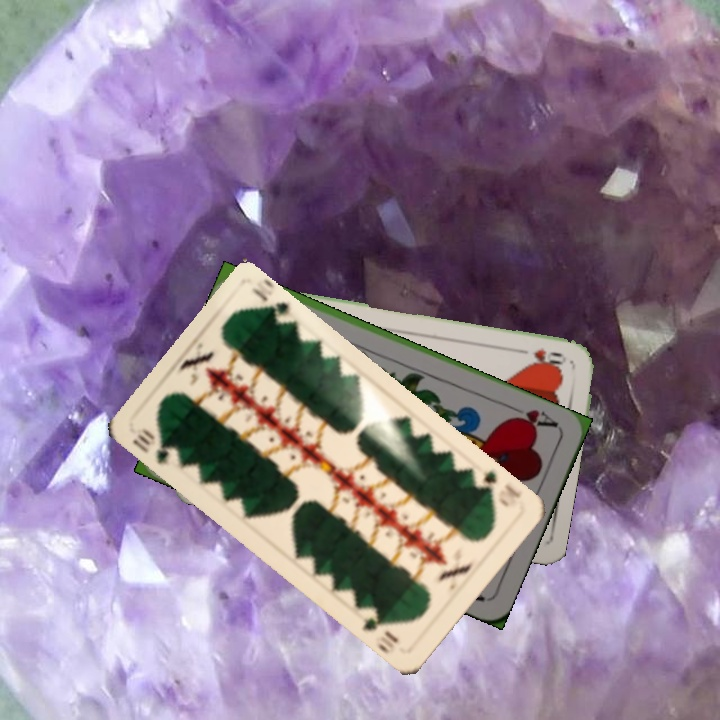G10: (128, 424, 184, 468), (479, 466, 525, 510)
HA: (504, 401, 561, 432)
HO: (513, 345, 565, 370)
